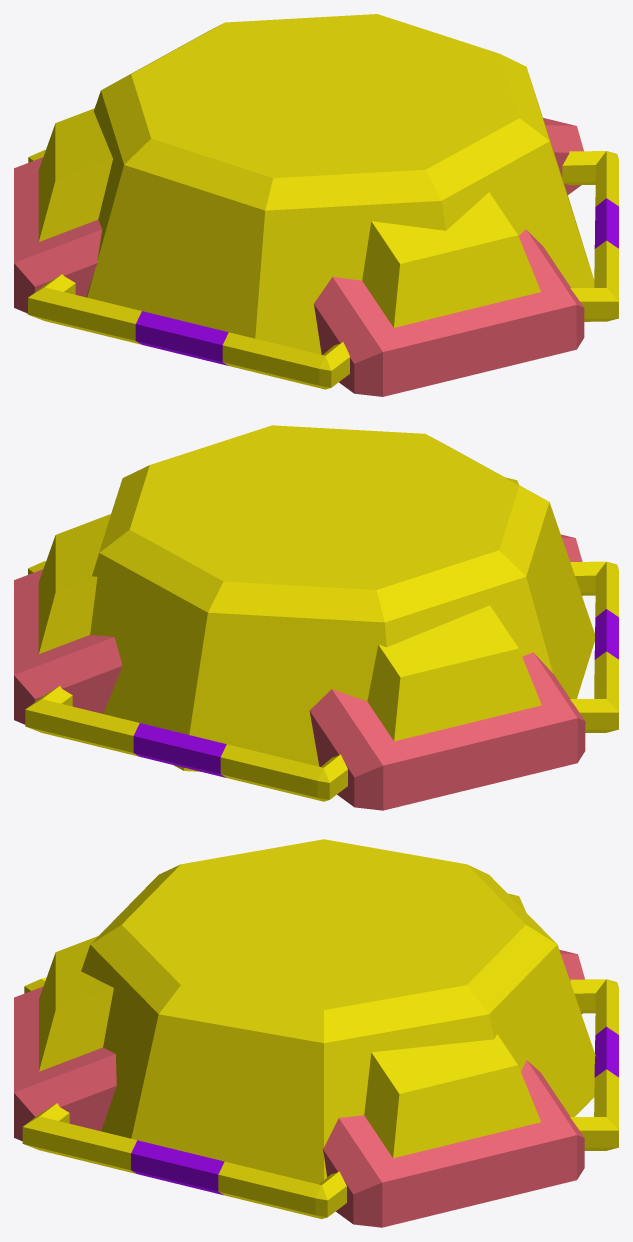
The model's file is platform-circle.fbx.
The picture shows the model from 3 angles, top to bottom: view 1: azimuth 30°, elevation 25°; view 2: azimuth 150°, elevation 25°; view 3: azimuth 270°, elevation 25°; orthographic projection.
Visible parts, largest first — view 1: platform-circle; view 2: platform-circle; view 3: platform-circle.
Part boxes in pixels (bbox=[...]): platform-circle: bbox=[14, 14, 618, 396]; platform-circle: bbox=[14, 425, 618, 810]; platform-circle: bbox=[14, 839, 618, 1227].
Size of the model in its own units: 5.03 by 1.34 by 4.45.
